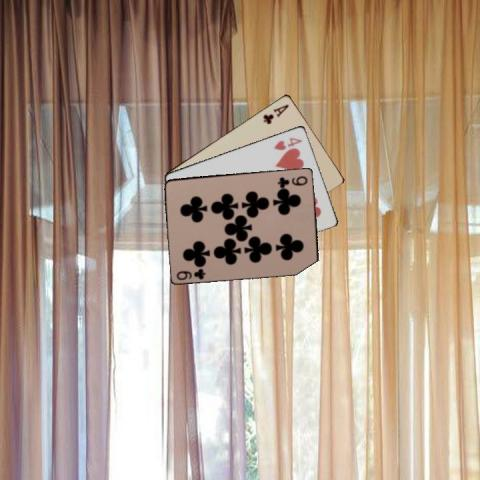4h: (271, 135, 303, 151)
9c: (174, 266, 207, 282), (274, 172, 308, 186)
Ac: (260, 102, 290, 126)
